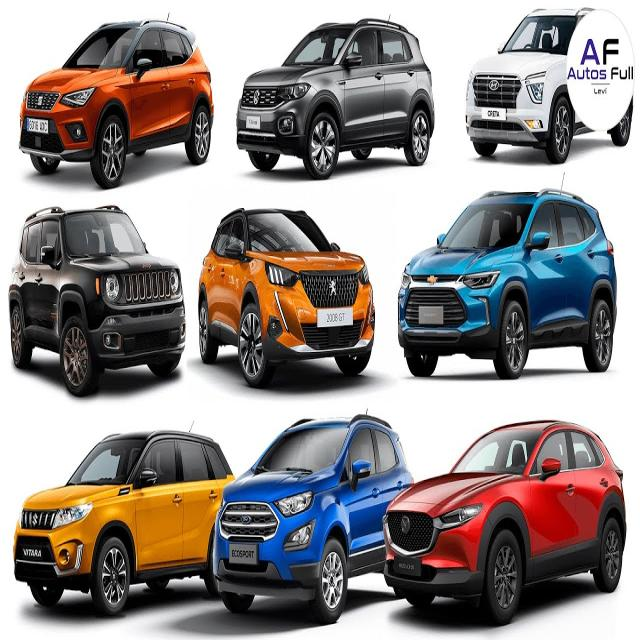SUV: (388, 424, 630, 628), (13, 432, 233, 621), (402, 192, 620, 381), (215, 418, 410, 624), (13, 206, 190, 397), (24, 21, 218, 191), (235, 20, 432, 183), (198, 206, 376, 386), (468, 4, 638, 163)
